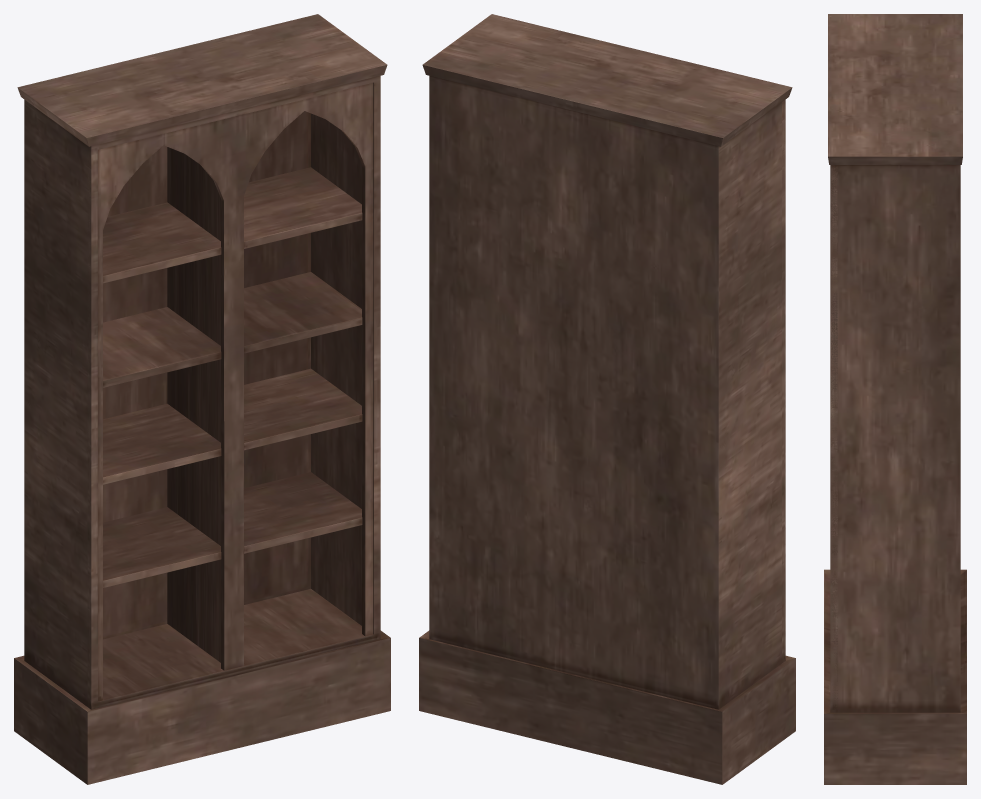
File: Furn_Shelf.glb
3 views of the same model, side by side, from view 1: azimuth 30°, elevation 25°; view 2: azimuth 150°, elevation 25°; view 3: azimuth 270°, elevation 25° (orthographic). The views are drawn at different scales.
Parts seen in each view (by area): view 1: Furn_Shelf; view 2: Furn_Shelf; view 3: Furn_Shelf.
Boxes of the visible parts, x1=… form: Furn_Shelf: x1=14, y1=14, x2=390, y2=784; Furn_Shelf: x1=419, y1=14, x2=795, y2=784; Furn_Shelf: x1=824, y1=14, x2=966, y2=784.
Size of the model in its own units: 0.7254 by 1.47 by 0.3042.
1 material, 1 textured.
